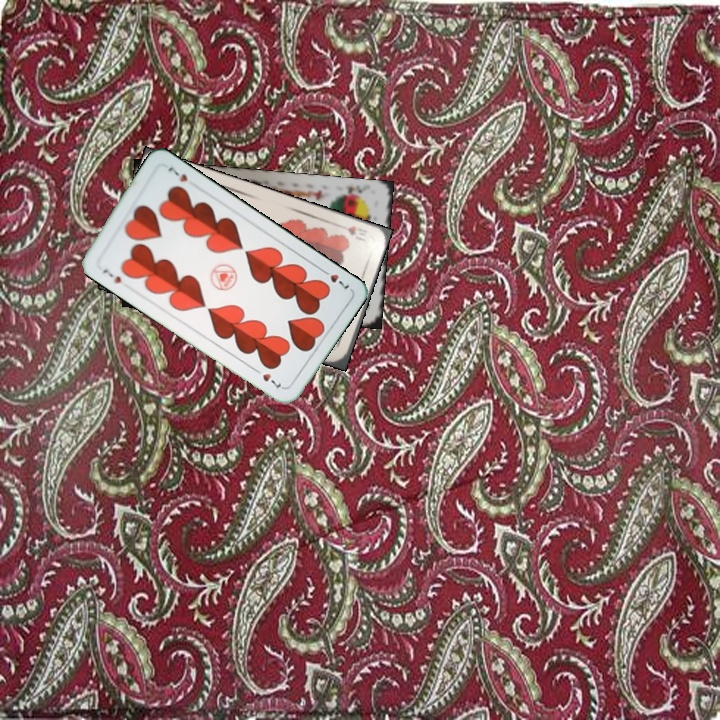H10: (343, 221, 370, 244)
H7: (317, 265, 352, 293), (99, 265, 124, 286)
SK: (342, 181, 370, 197)
